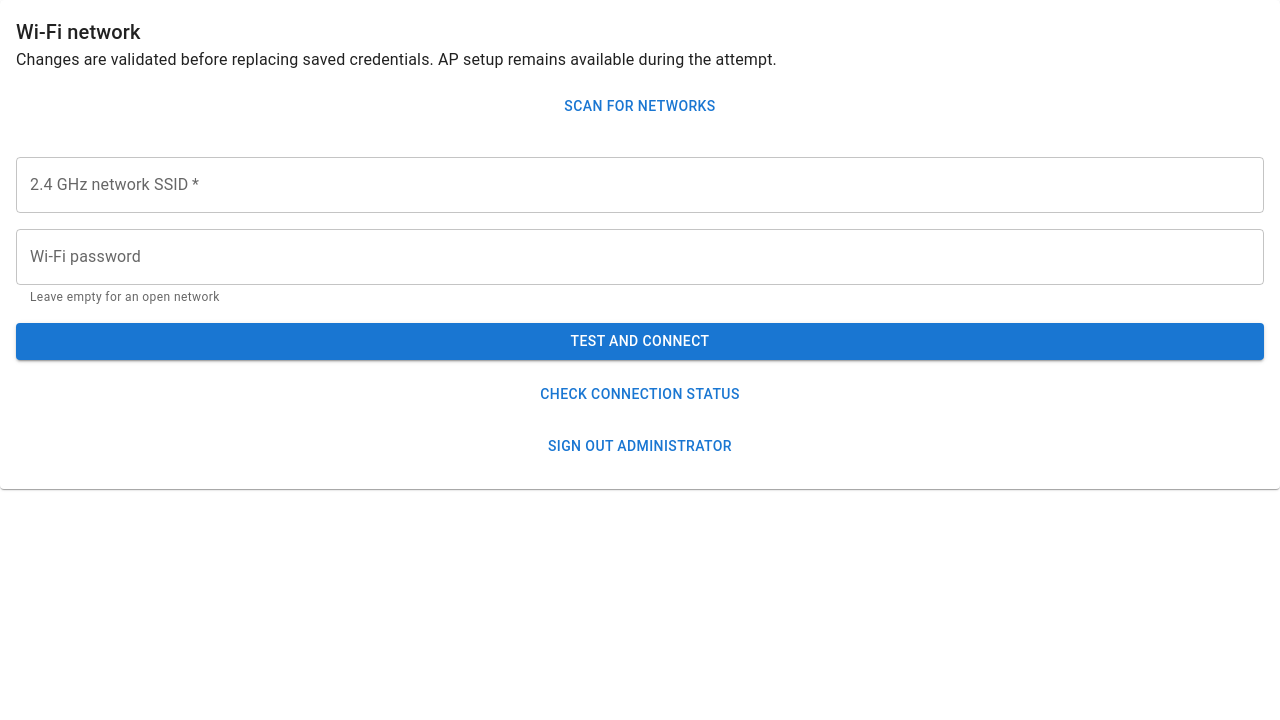
Test: scans asynchronously and selects an SSID without submitting credentials
Click the button "Scan for networks" at coordinates (640, 106), box [16,88,1264,124]
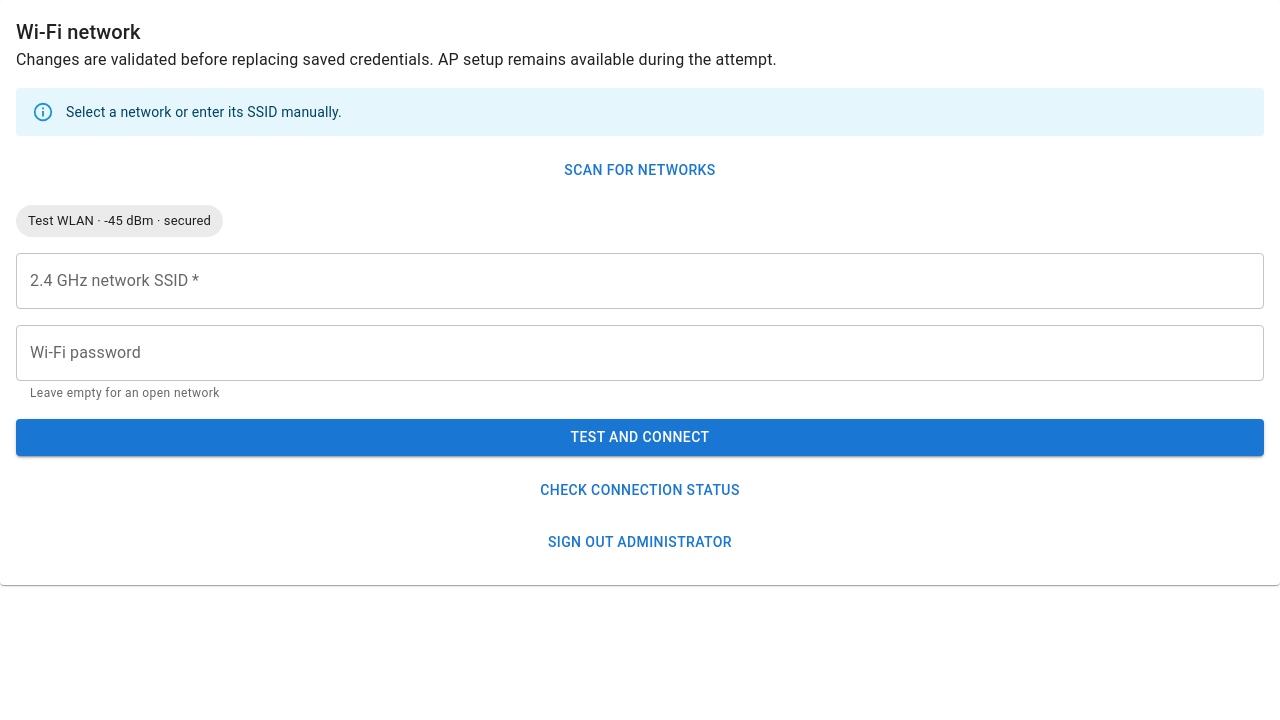
Click the button "Test WLAN · -45 dBm · secured" at coordinates (120, 220), box [16,204,223,236]
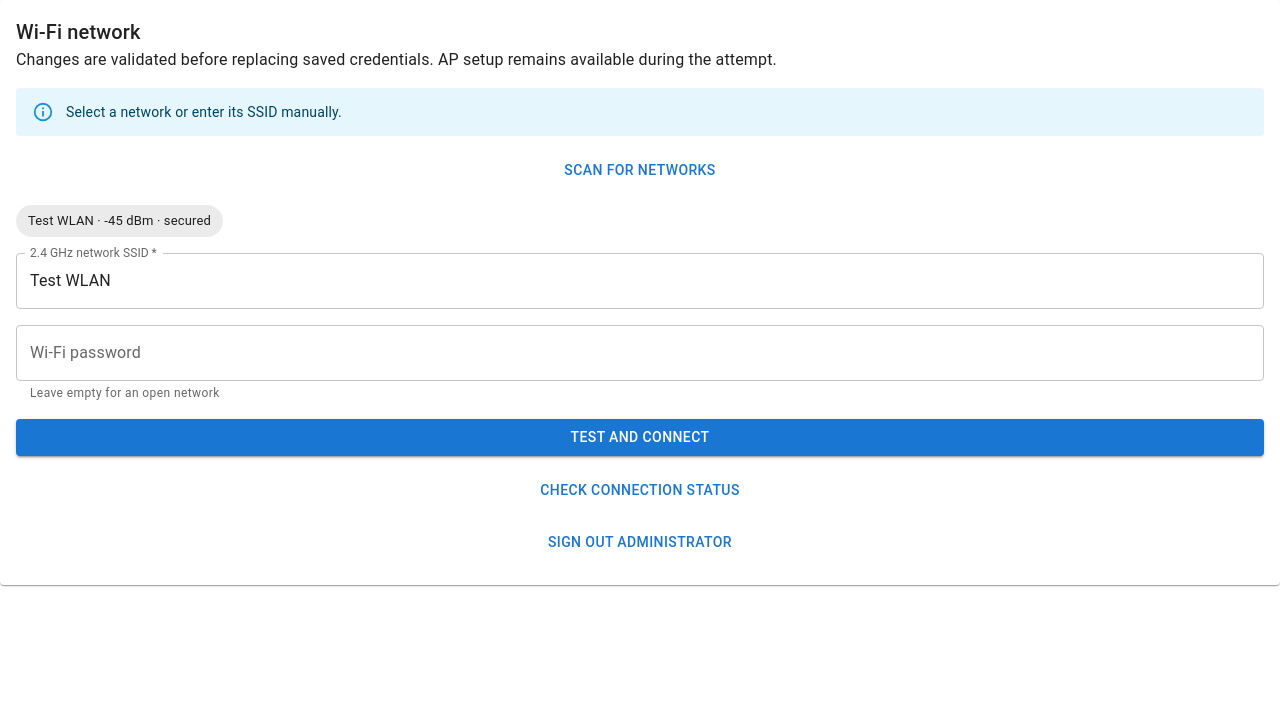
Expected: the field labelled "2.4 GHz network SSID *" holds "Test WLAN", [16,252,1264,308]
